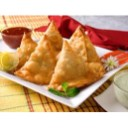samosa: (16, 35, 61, 87), (52, 40, 101, 86)
